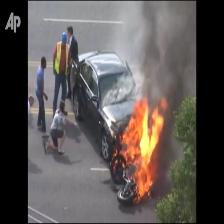fire: (118, 95, 168, 202)
